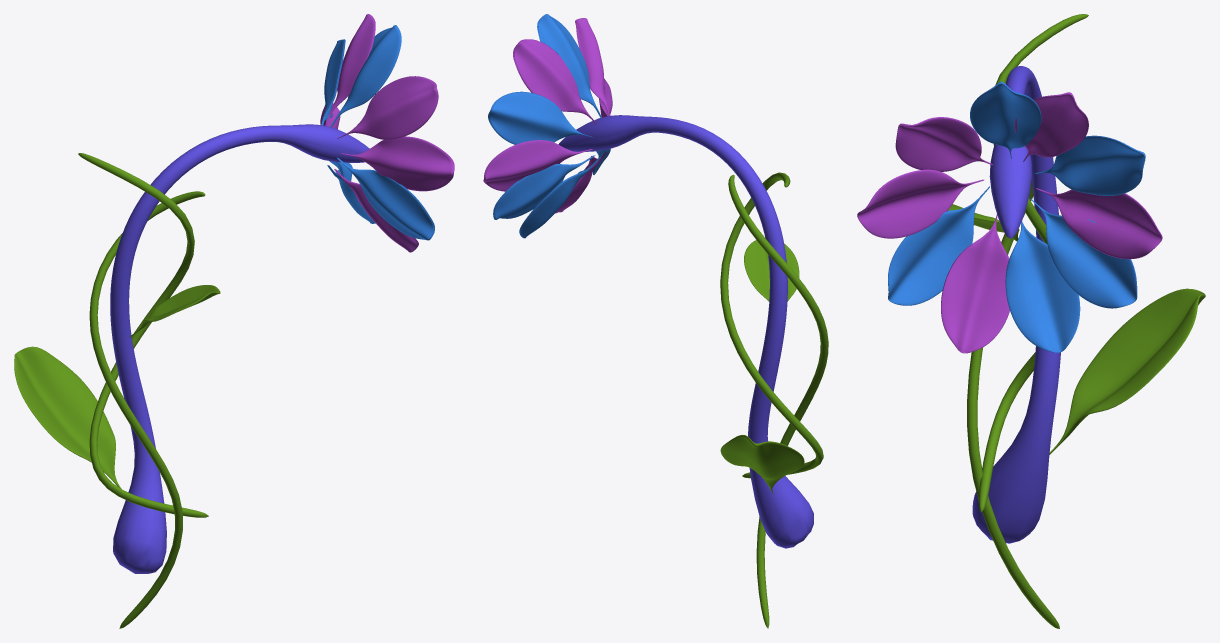
Rendered from Lvl3 1.fbx.
3 renders of one model, left to right at view 1: azimuth 30°, elevation 25°; view 2: azimuth 150°, elevation 25°; view 3: azimuth 270°, elevation 25°, orthographic. The views are drawn at different scales.
Visible parts, largest first — view 1: Ranke1; view 2: Ranke1; view 3: Ranke1.
Part boxes in pixels (x1=…): Ranke1: x1=14, y1=14, x2=454, y2=628; Ranke1: x1=483, y1=14, x2=828, y2=628; Ranke1: x1=857, y1=14, x2=1205, y2=628.
Size of the model in its own units: 25.49 by 42.35 by 19.06.
